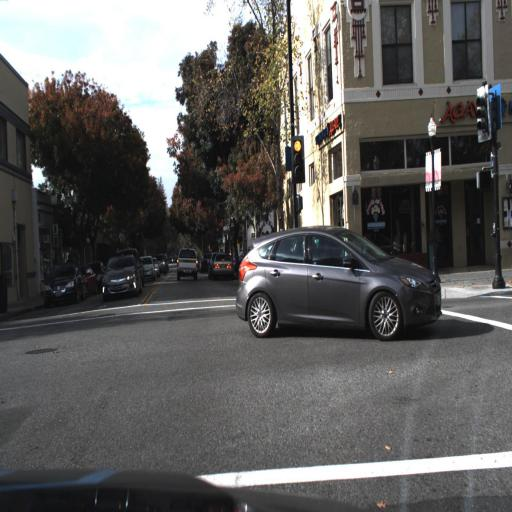car: (228, 215, 449, 353), (237, 224, 441, 342), (38, 255, 88, 310), (100, 255, 139, 299), (43, 264, 82, 306), (207, 248, 236, 284), (176, 245, 199, 283), (211, 251, 235, 281), (145, 255, 155, 282)
trafficLight: (291, 135, 306, 181)
